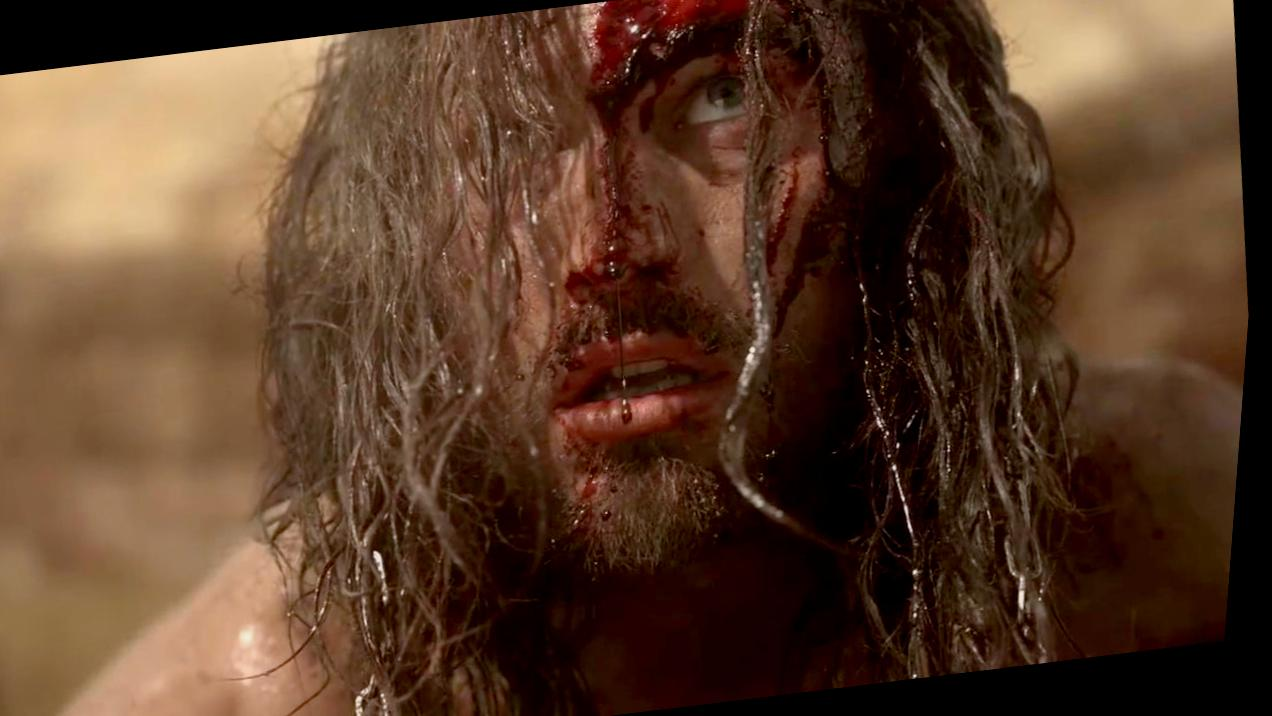Fire: (517, 0, 757, 518), (772, 133, 852, 320)
